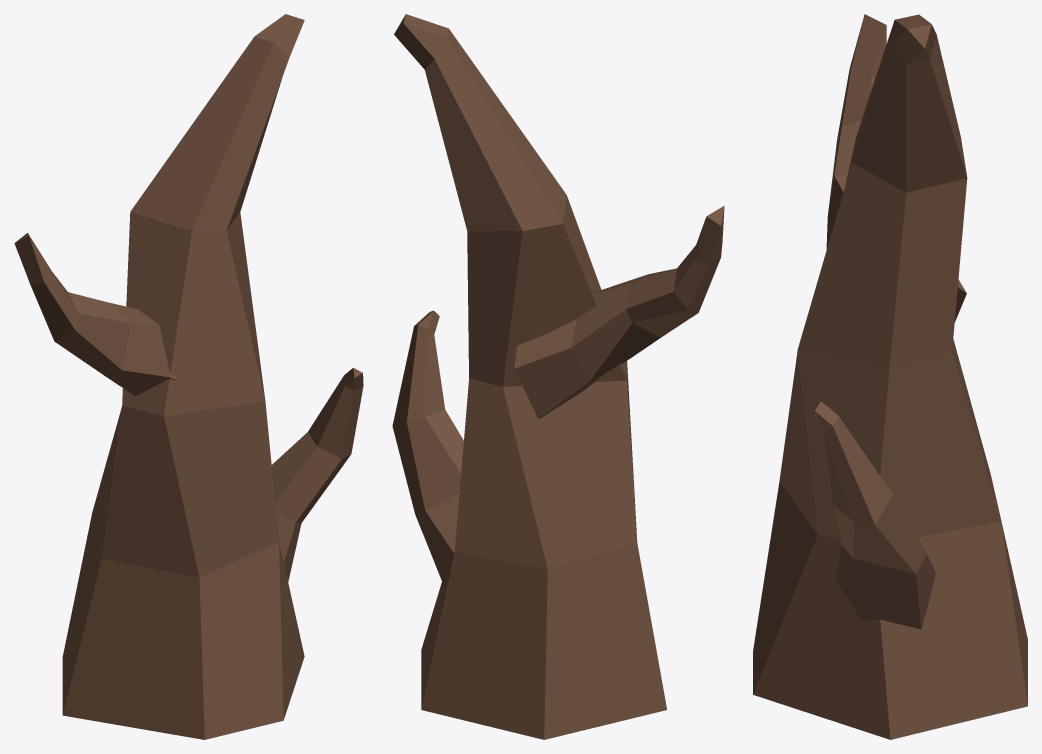
3 renders of one model, left to right at view 1: azimuth 30°, elevation 25°; view 2: azimuth 150°, elevation 25°; view 3: azimuth 270°, elevation 25°, orthographic. The views are drawn at different scales.
Parts seen in each view (by area): view 1: KS_01; view 2: KS_01; view 3: KS_01.
Part boxes in pixels (box(x1,y1,x2,y2)): KS_01: box(14, 14, 363, 739); KS_01: box(392, 14, 724, 739); KS_01: box(753, 14, 1027, 739).
Size of the model in its own units: 0.6905 by 1.27 by 0.4413.
